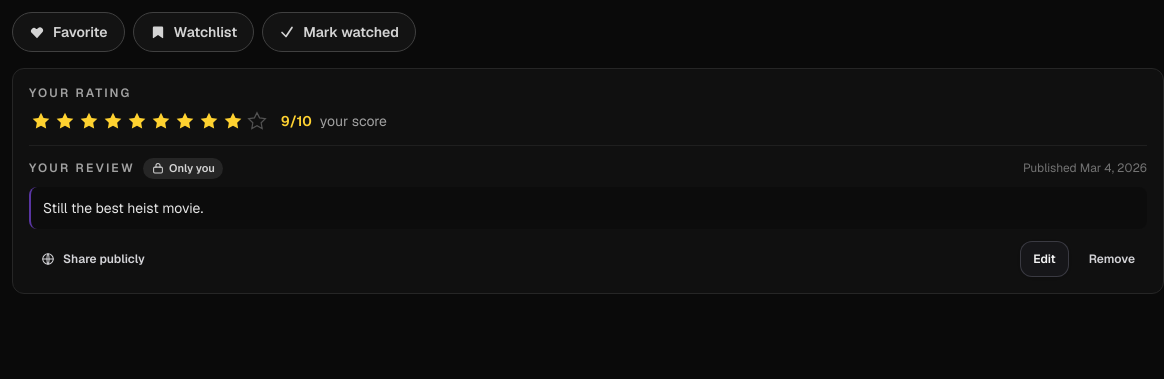
MovieLibraryControls › shows a published review as read-only until Edit is pressed
This screenshot has width=1164, height=379.
Check: the text "Still the best heist movie." is shown, box [43, 198, 203, 216]
Check: the text "Published Mar 4, 2026" is shown, box [1023, 160, 1147, 176]
Click the button "Edit": (1044, 259) [1020, 241, 1069, 277]
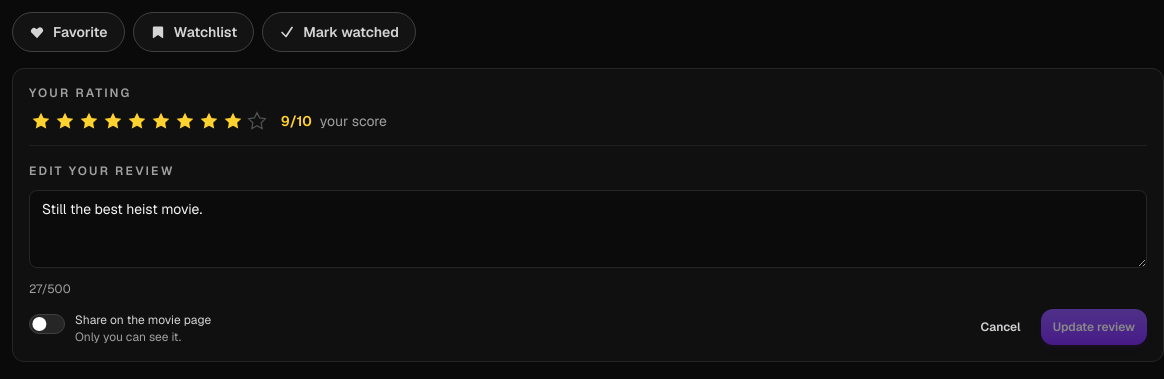
Check: the text box labelled "Edit your review" holds "Still the best heist movie.", box [29, 190, 1147, 268]
Leaving the editor without changes restores the published view.
Click the button "Cancel": (1001, 327) [969, 309, 1033, 345]
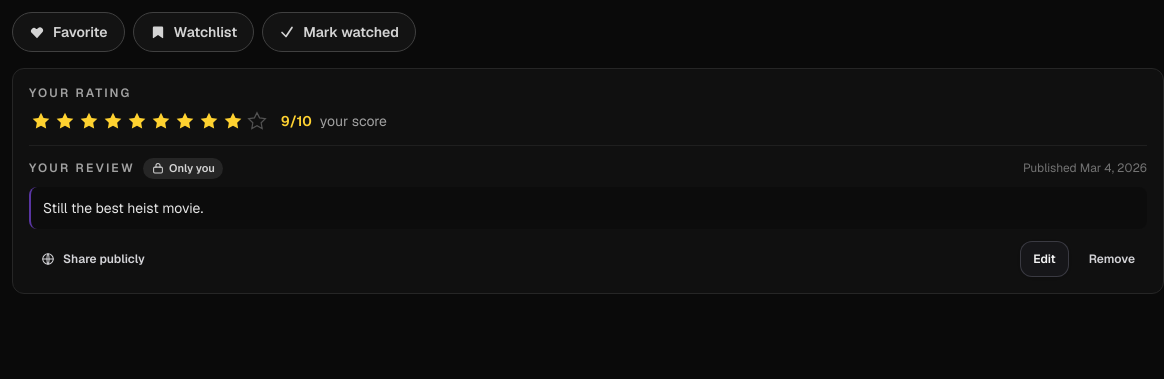
Check: the label labelled "Edit your review" is gone
